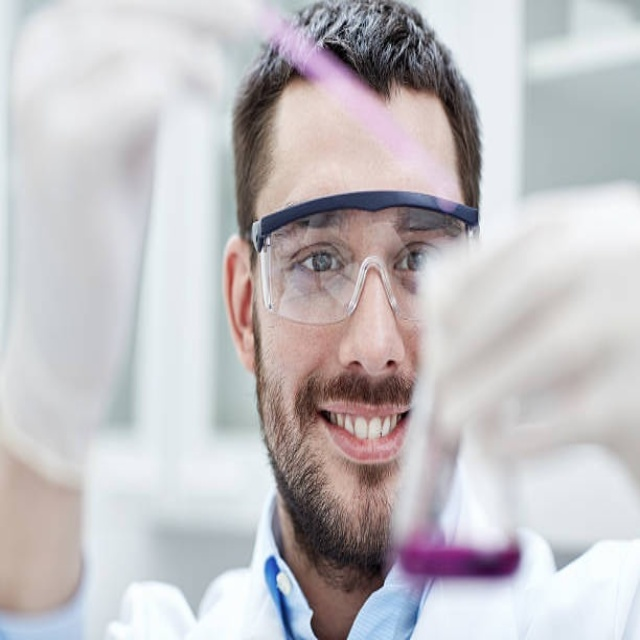Gafas: (251, 199, 475, 324)
Sin_mascara: (307, 380, 413, 522)
